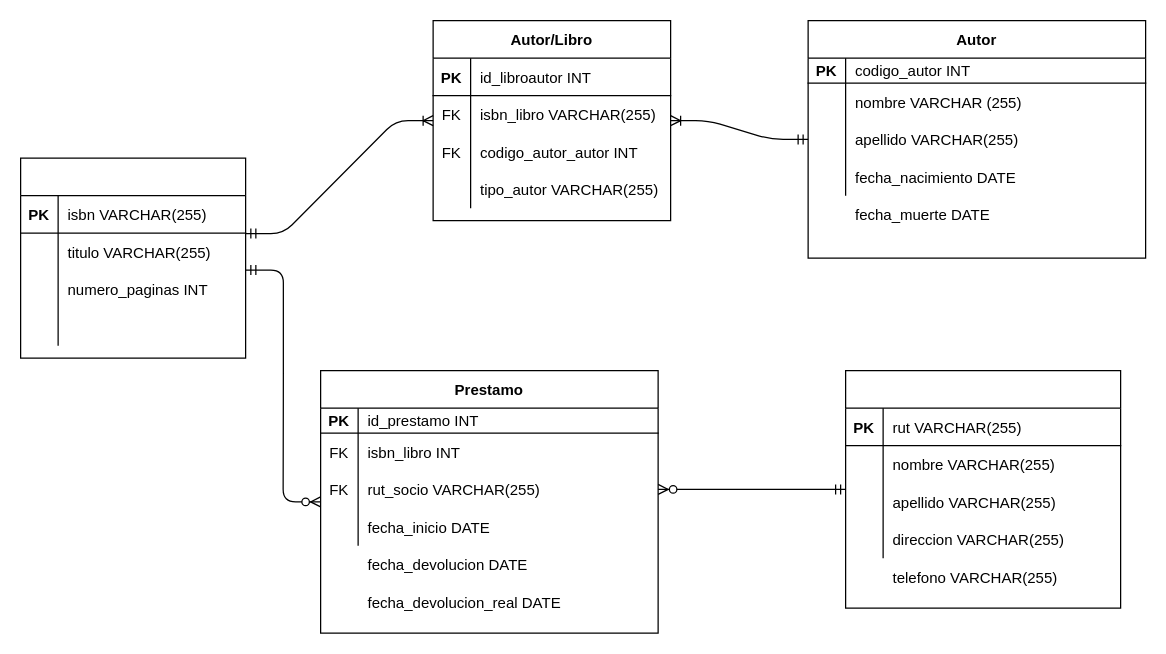
The diagram is 1166 pixels wide and 654 high, and some of its shapes have lost their labels. The shapes that lost their labels are listed below. From the top down, each one's box as (x1, y1, x2, y2) in pixels, then its label:
(19, 157, 246, 358): Libro
(844, 369, 1121, 608): Socio
